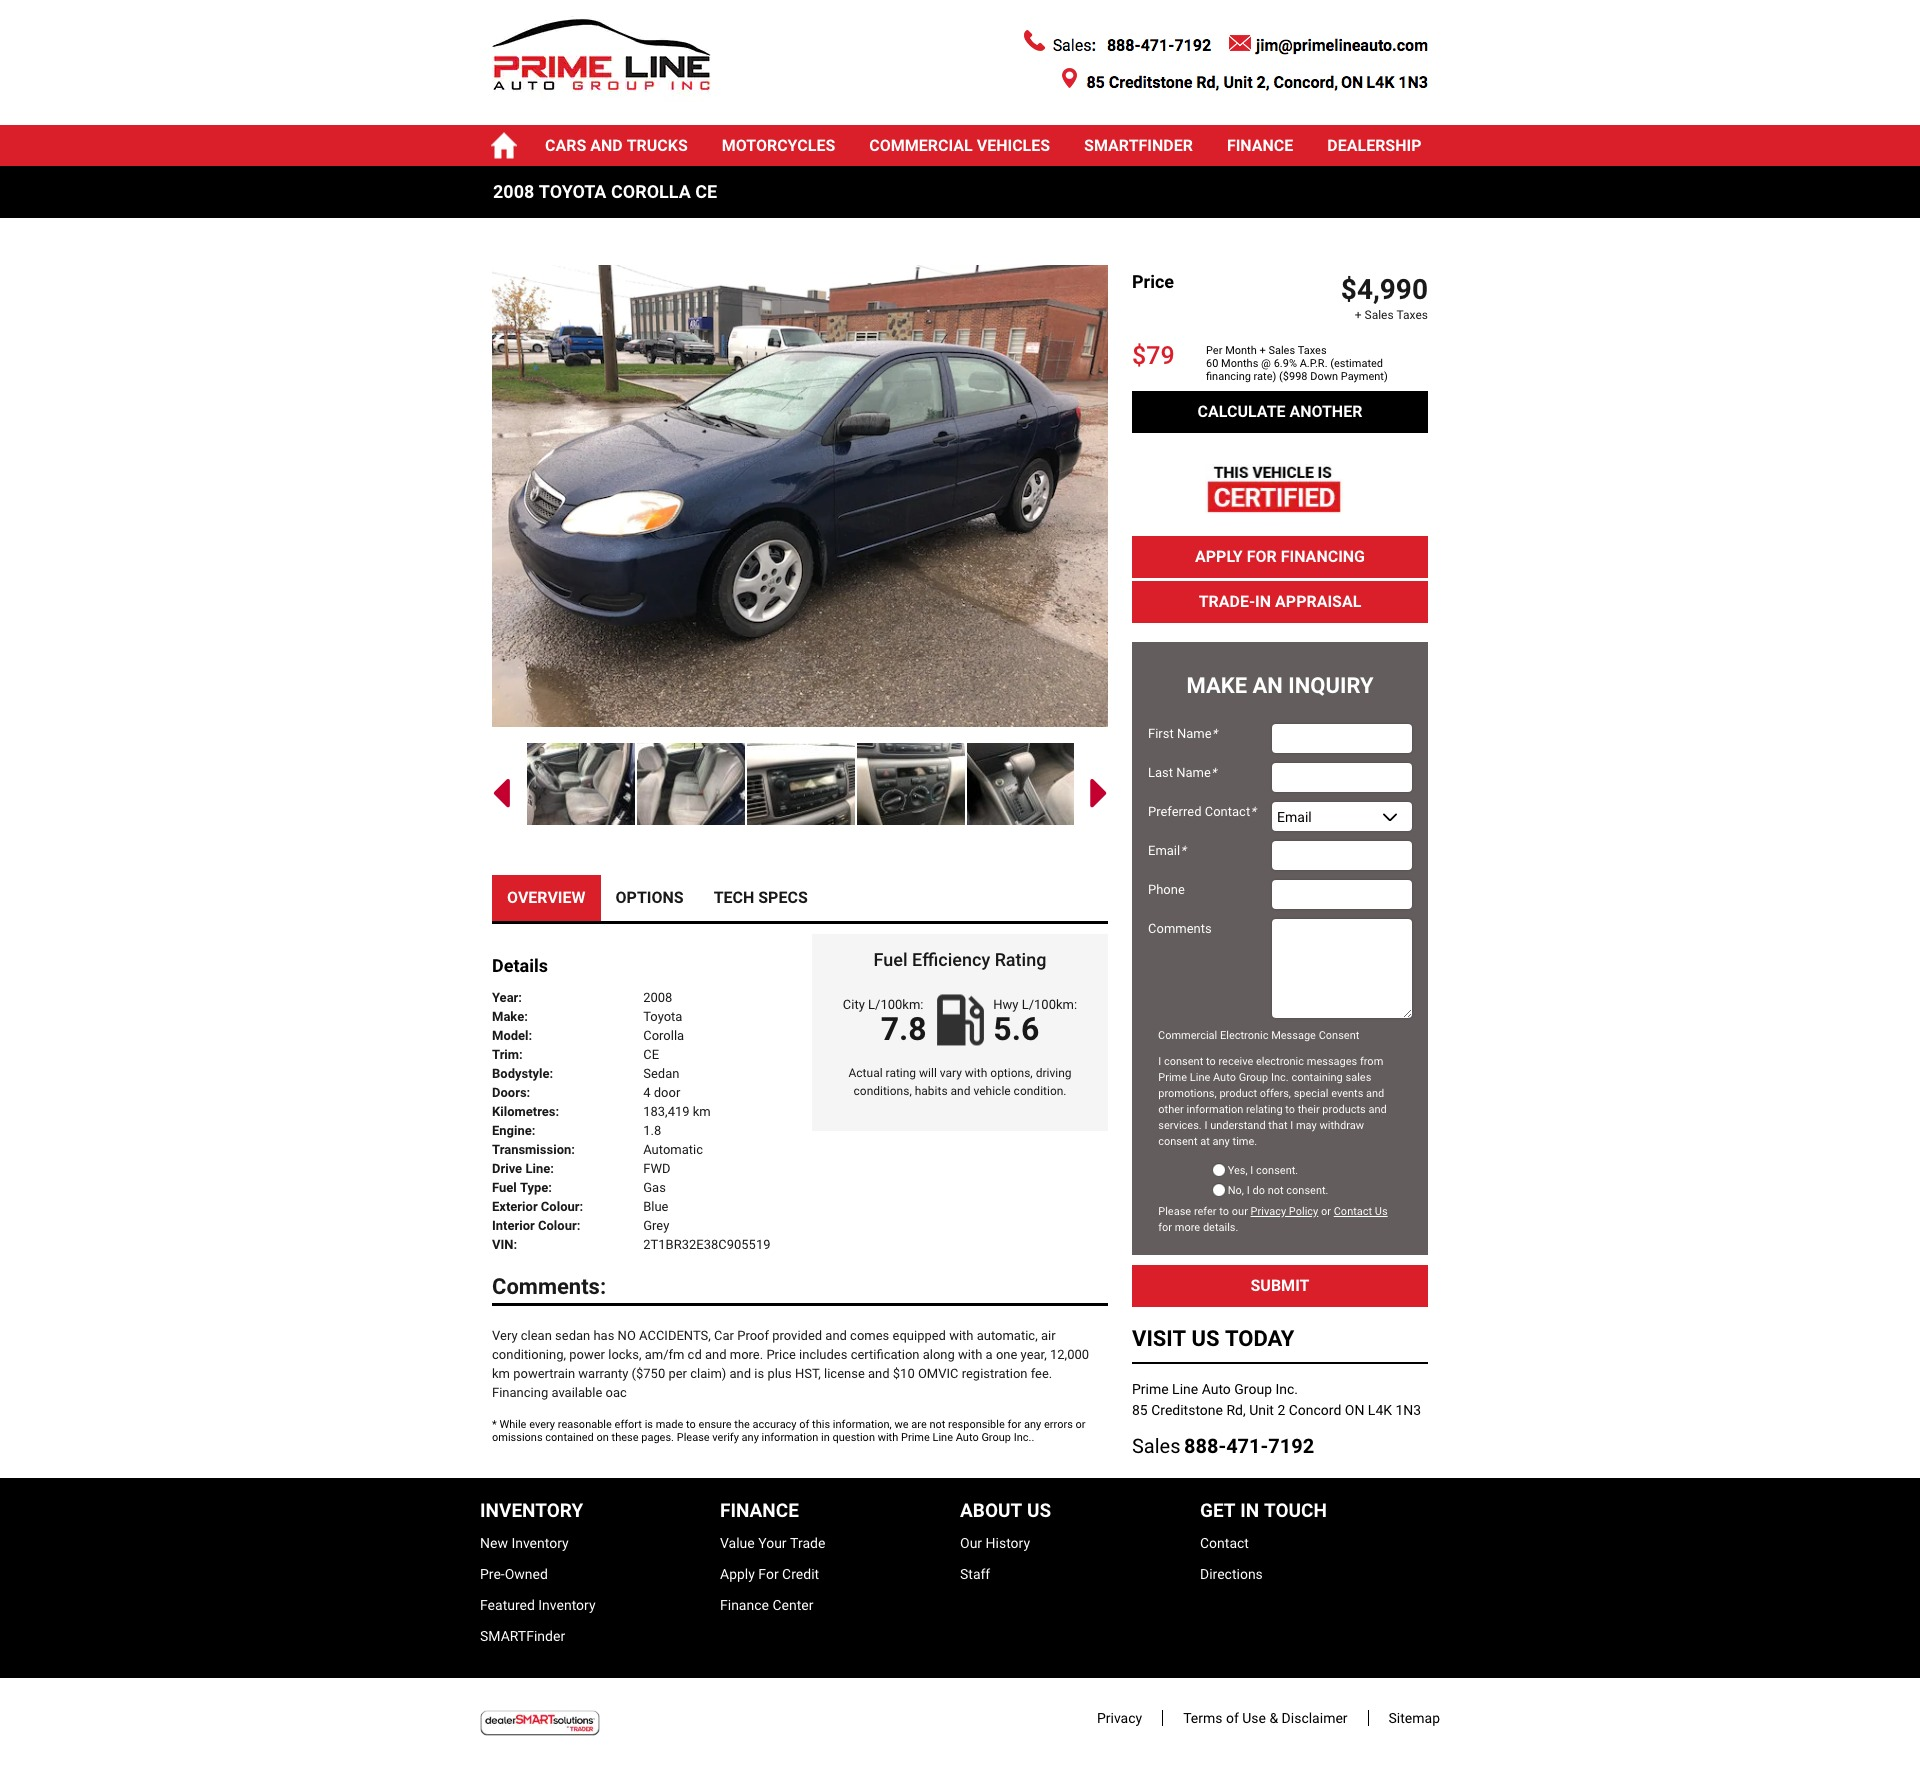car: (1088, 778, 1108, 810)
